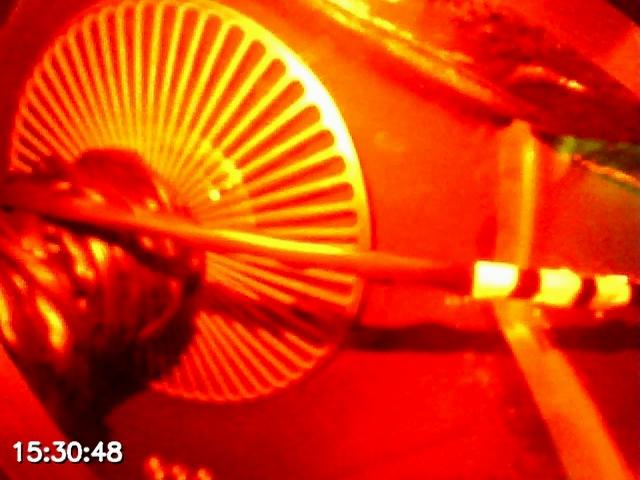white-dots: (470, 259, 630, 307)
